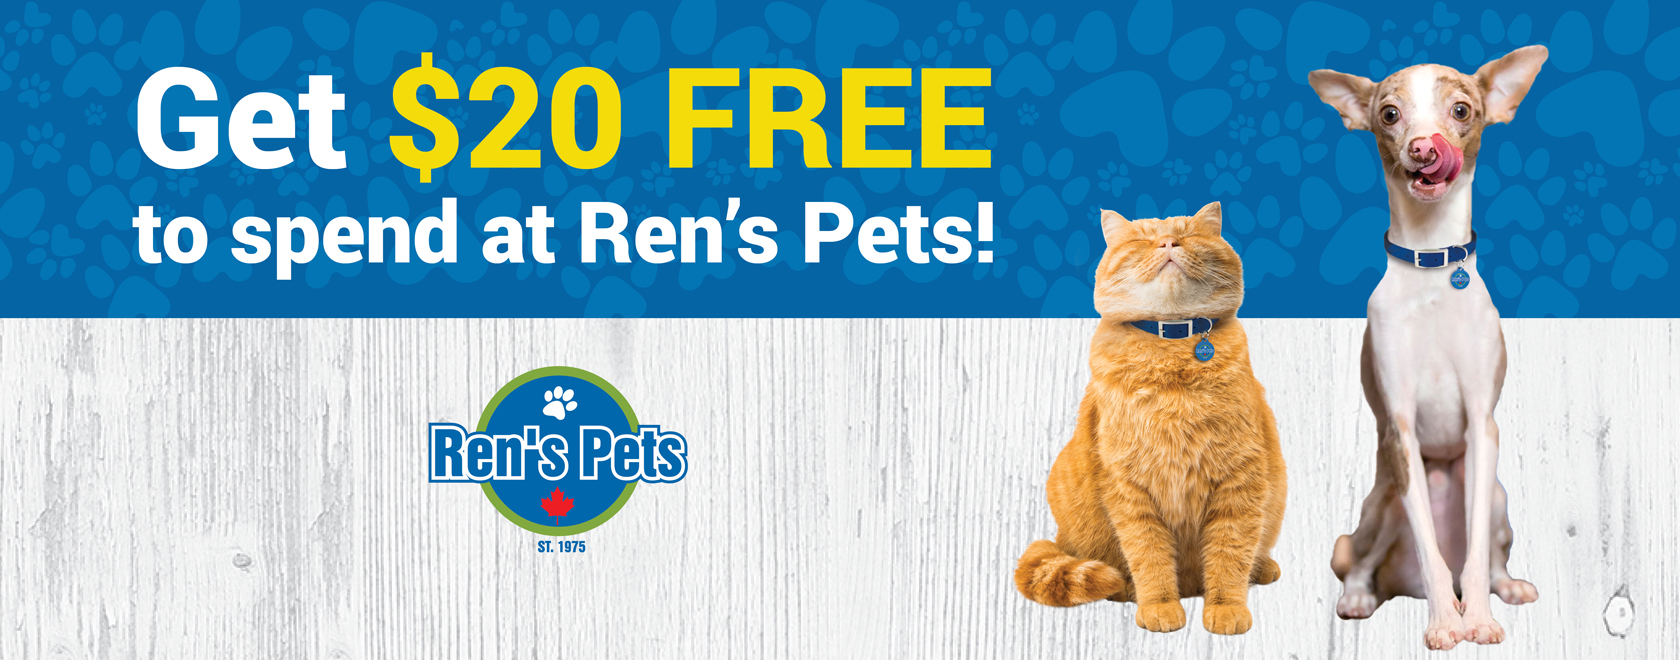pet: (1295, 63, 1602, 660)
